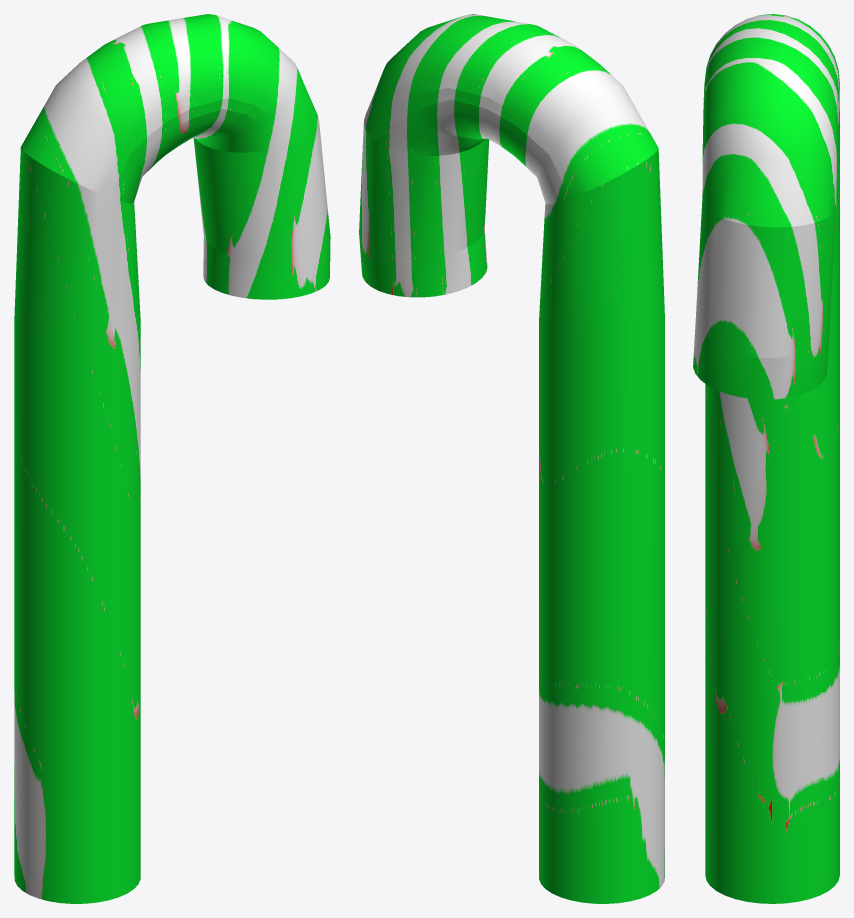
File: Green candycane.fbx
The picture shows the model from 3 angles, left to right: view 1: azimuth 30°, elevation 25°; view 2: azimuth 150°, elevation 25°; view 3: azimuth 270°, elevation 25°; orthographic projection. The views are drawn at different scales.
Visible parts, largest first — view 1: Cylinder; view 2: Cylinder; view 3: Cylinder.
Boxes of the visible parts, left/top/right/bottom form: Cylinder: left=14, top=14, right=330, bottom=903; Cylinder: left=359, top=14, right=664, bottom=903; Cylinder: left=693, top=14, right=839, bottom=903.
Bounding box in the file's own units: 21.04 × 56.59 × 8.42.
